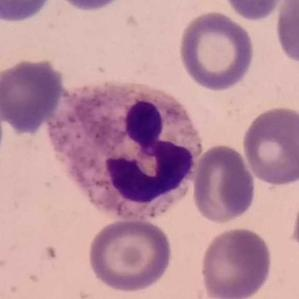Neutrophil: (39, 73, 207, 231)
RBC: (85, 217, 175, 294), (175, 9, 258, 92), (197, 224, 274, 299), (190, 142, 258, 226), (0, 56, 65, 133), (240, 104, 299, 187), (272, 0, 298, 66), (219, 0, 291, 22), (0, 0, 56, 24), (51, 0, 129, 13)
